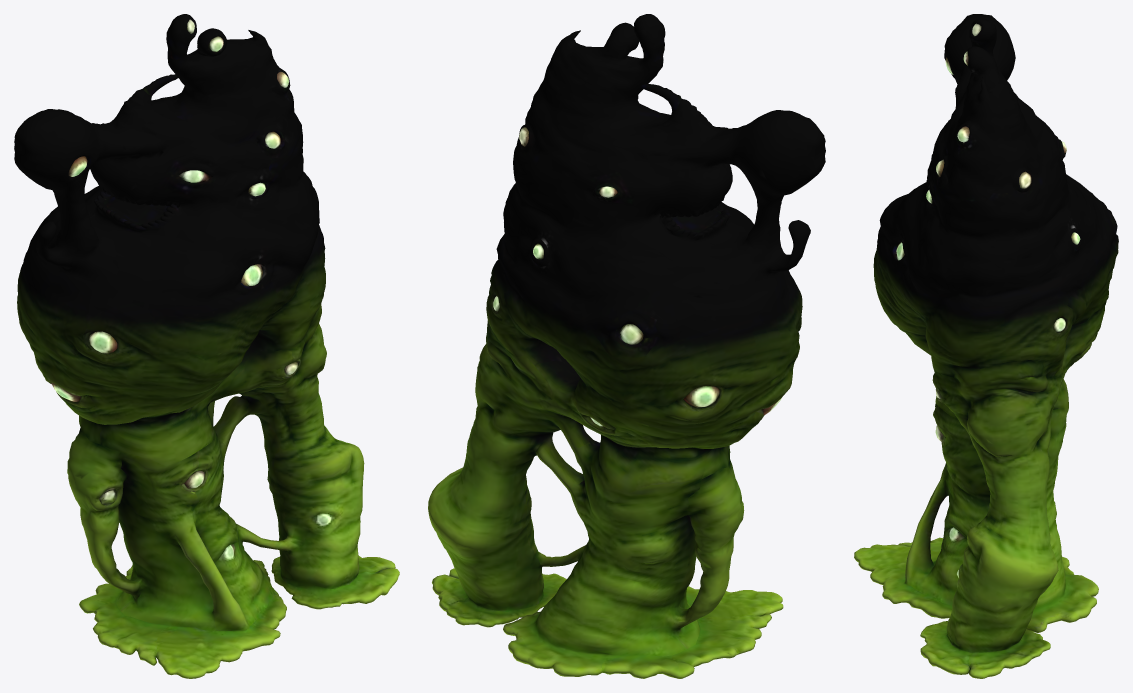
The model's file is MZ4250 - Juiblex.glb.
The picture shows the model from 3 angles, left to right: view 1: azimuth 30°, elevation 25°; view 2: azimuth 150°, elevation 25°; view 3: azimuth 270°, elevation 25°; orthographic projection. The views are drawn at different scales.
Visible parts, largest first — view 1: Cylinder.001; view 2: Cylinder.001; view 3: Cylinder.001.
Boxes of the visible parts, x1=… form: Cylinder.001: x1=14, y1=14, x2=399, y2=678; Cylinder.001: x1=428, y1=14, x2=825, y2=678; Cylinder.001: x1=854, y1=14, x2=1118, y2=678.
Size of the model in its own units: 2.23 by 3.43 by 1.45.
Materials: 1 (1 with a texture image).
